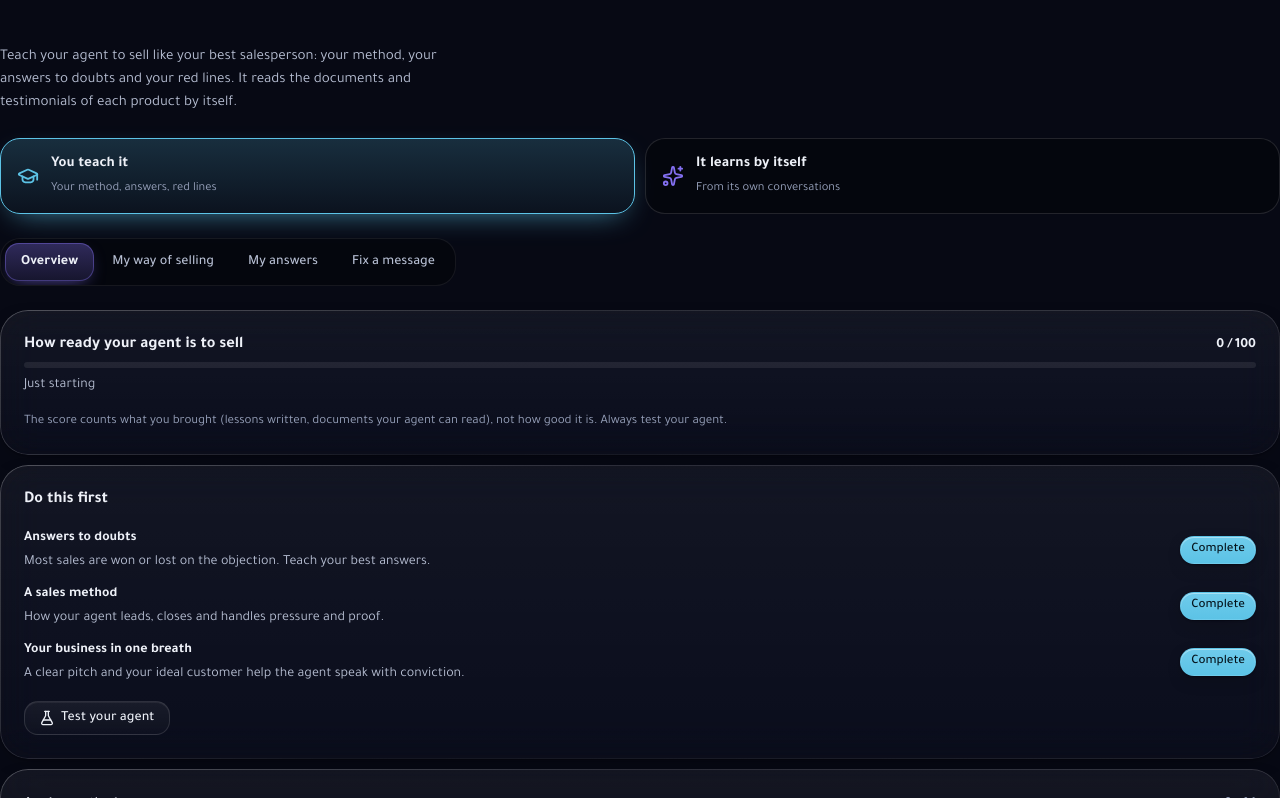
Test: Train your agent › goes to the right section from a thing to do
Click the 1st button "Complete": (1218, 550) [1180,536,1256,564]
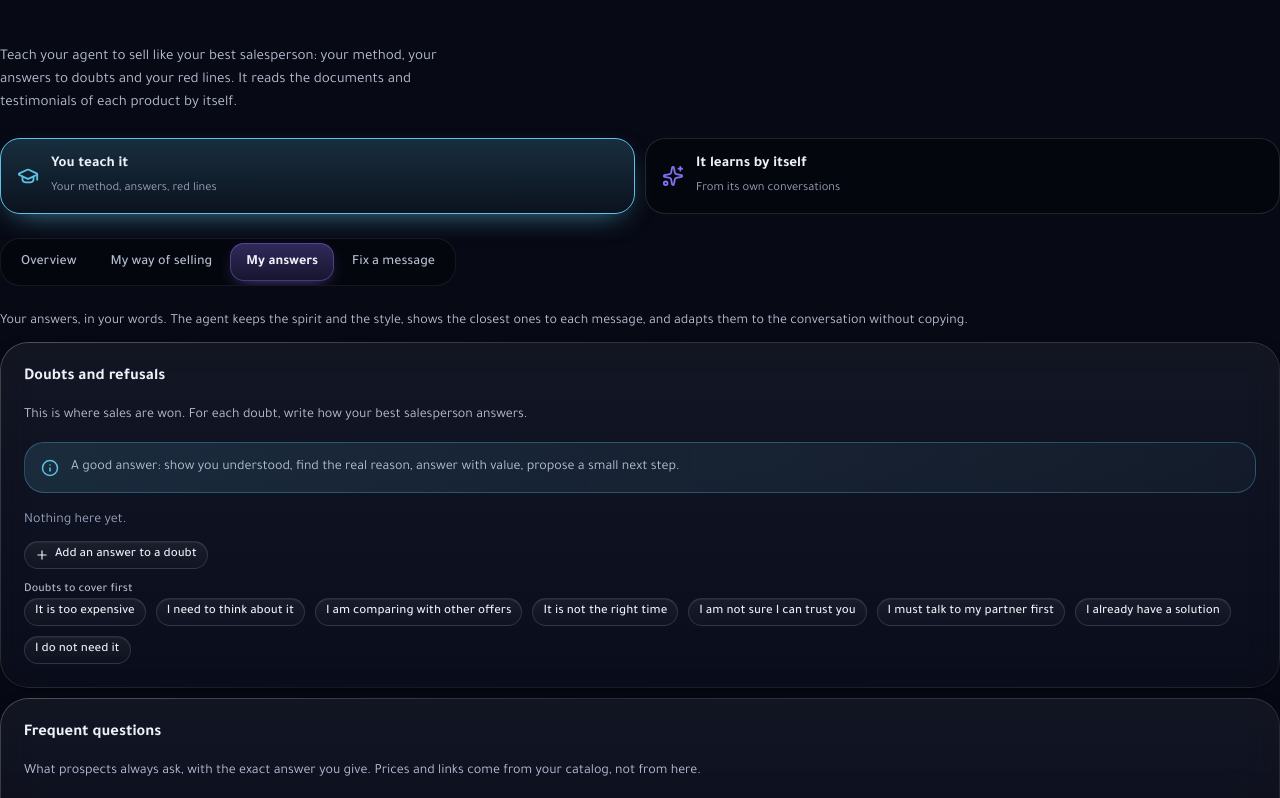
Check: the element with test id "training-objections" is shown, box [0,342,1279,688]
